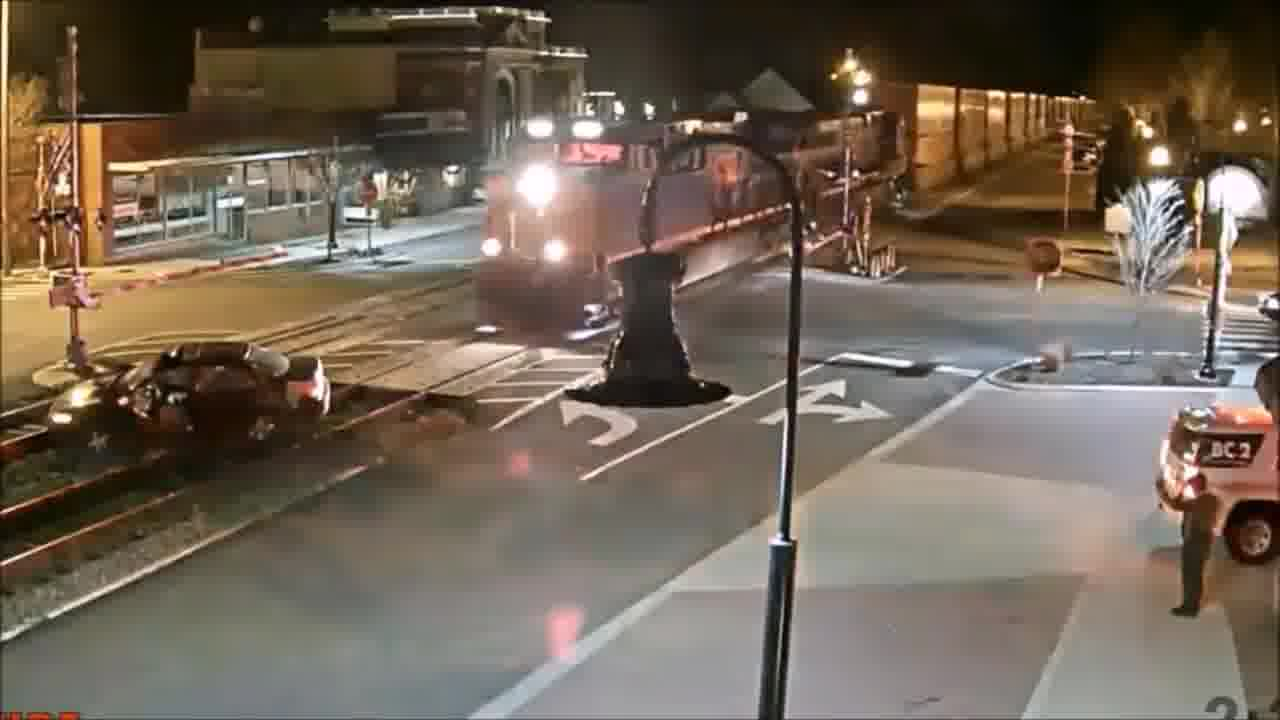crossing railway track: (38, 335, 344, 458)
